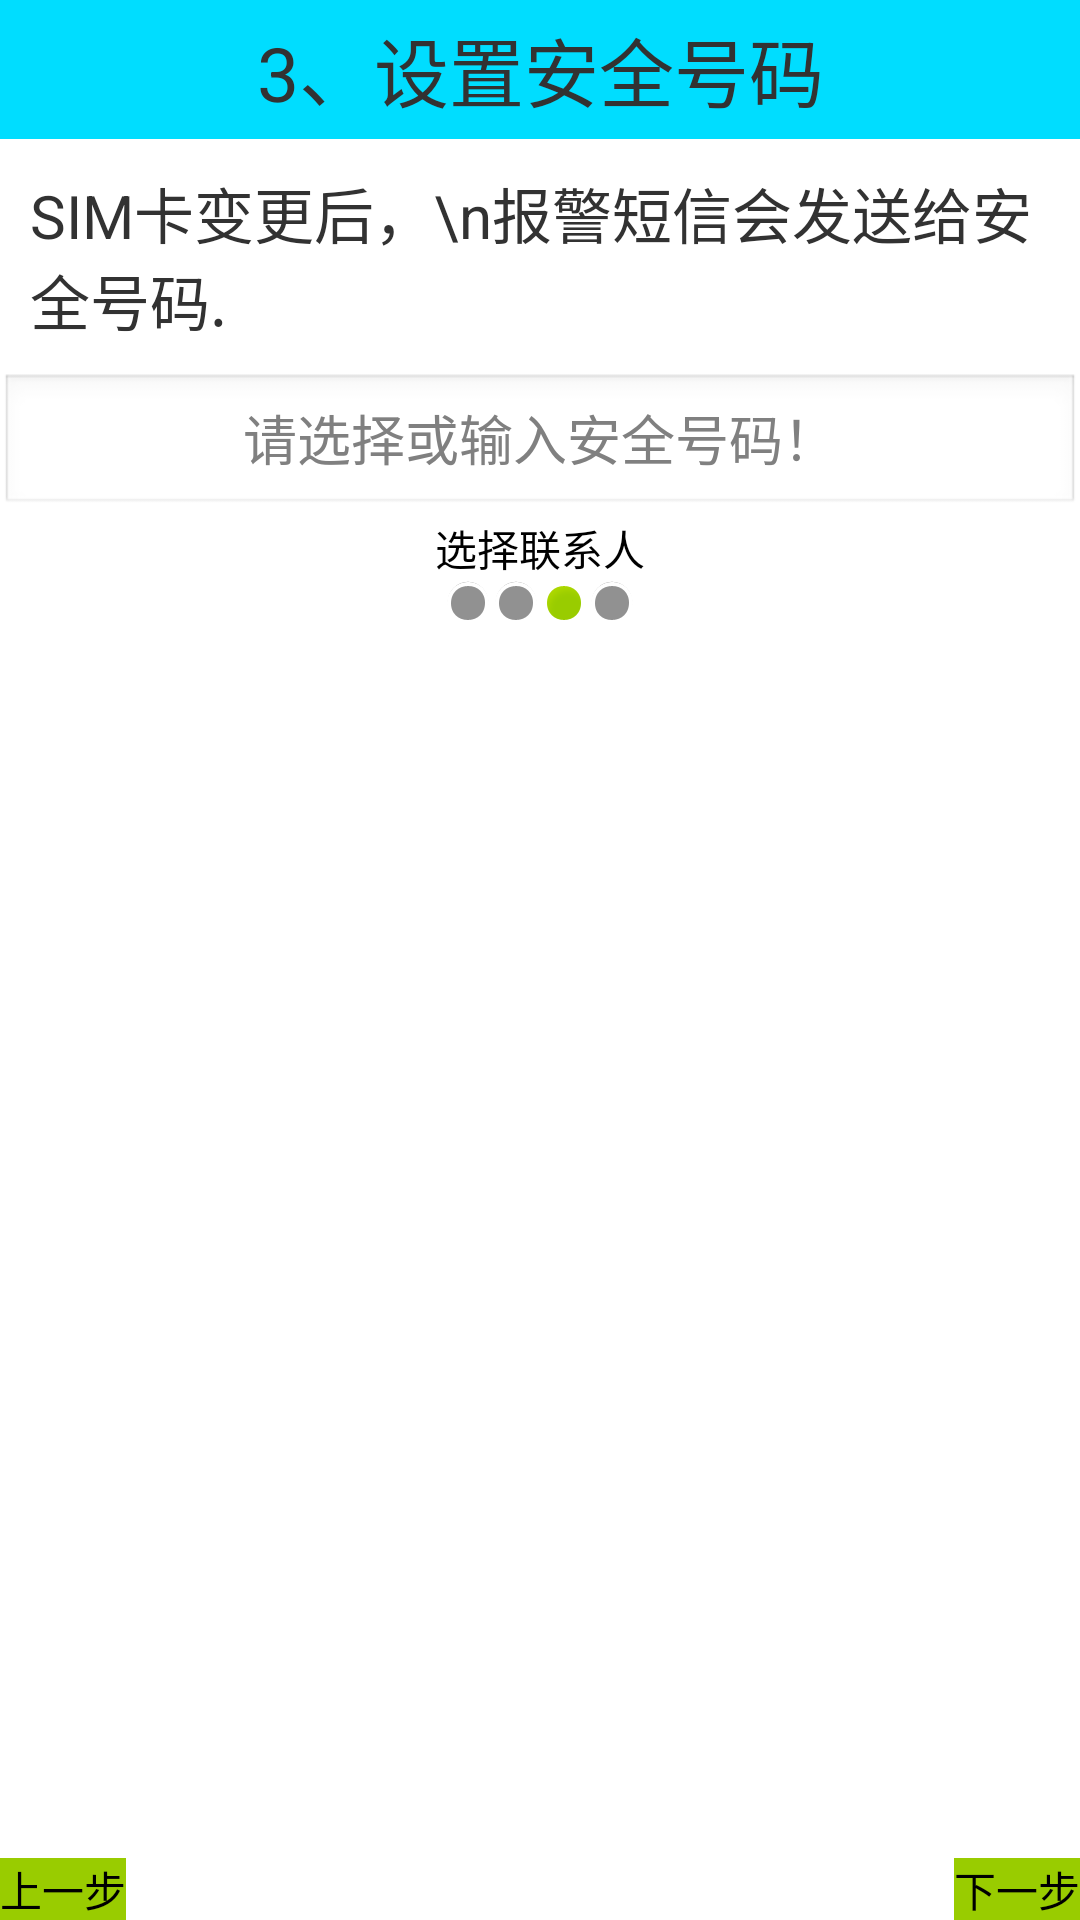

Named icons in this screenshot (1080*1920) and their bounding boxes, bbox=(x1, y1, x2, y2):
presence invisible: bbox=(451, 582, 485, 620), bbox=(499, 582, 533, 620), bbox=(595, 582, 629, 620)
presence online: bbox=(547, 586, 581, 620)
